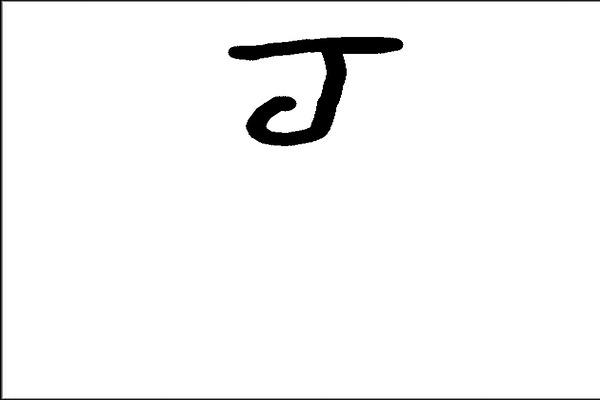J: (217, 31, 409, 150)
